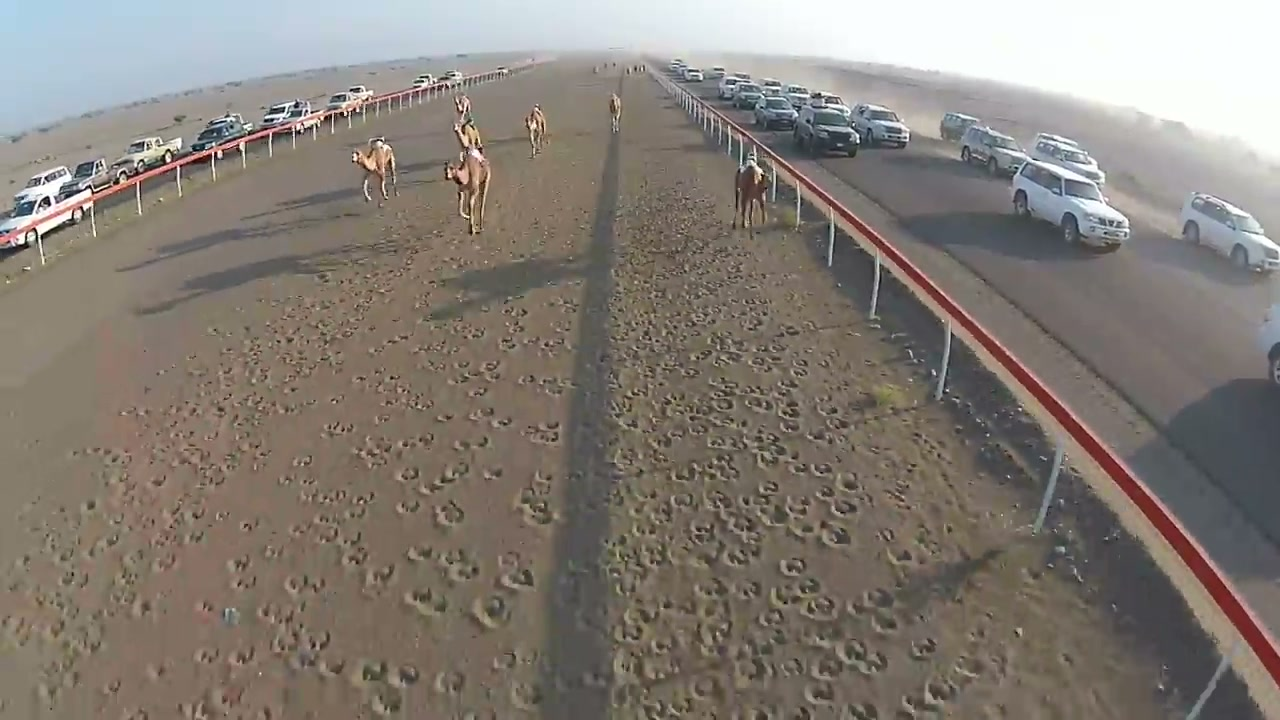animal_foot_print: (0, 81, 1162, 719), (605, 227, 1016, 719), (515, 477, 557, 527), (471, 592, 512, 629), (404, 587, 449, 617), (363, 562, 399, 594), (433, 500, 465, 529), (432, 670, 466, 697), (523, 421, 561, 445), (910, 637, 937, 661)
